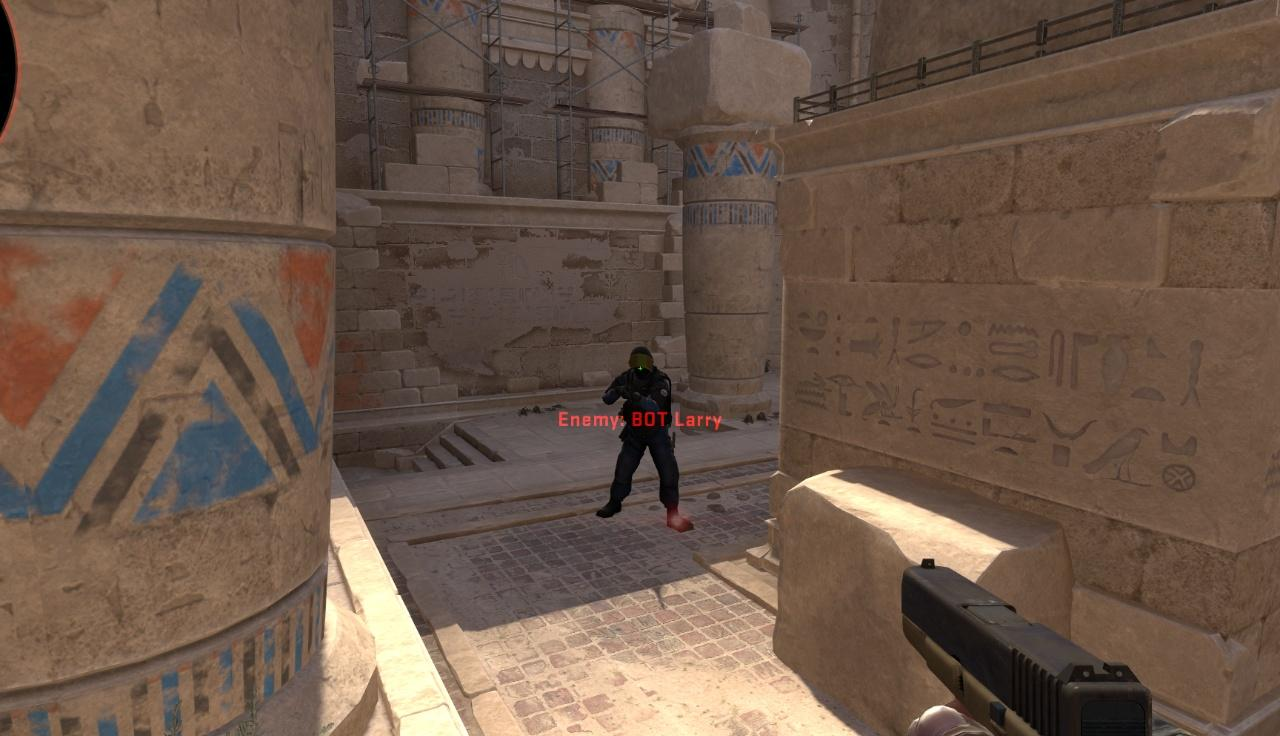ct: (616, 348, 673, 517)
cthead: (630, 348, 655, 378)
pistol: (897, 552, 1157, 731)
